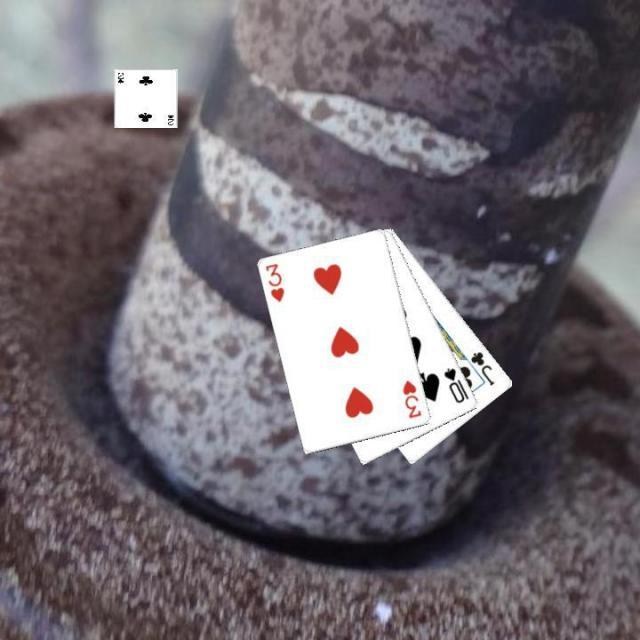10S: (440, 364, 471, 406)
3H: (262, 260, 286, 304), (399, 377, 423, 420)
JC: (467, 348, 497, 388)
